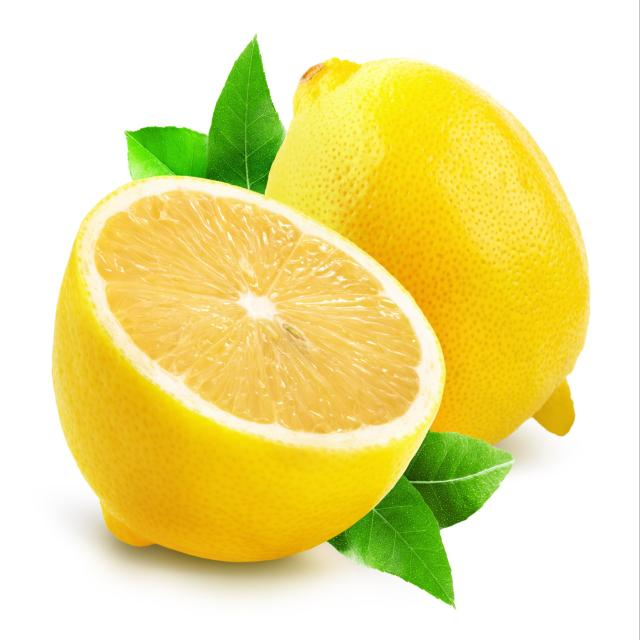lemon: (46, 170, 454, 568)
